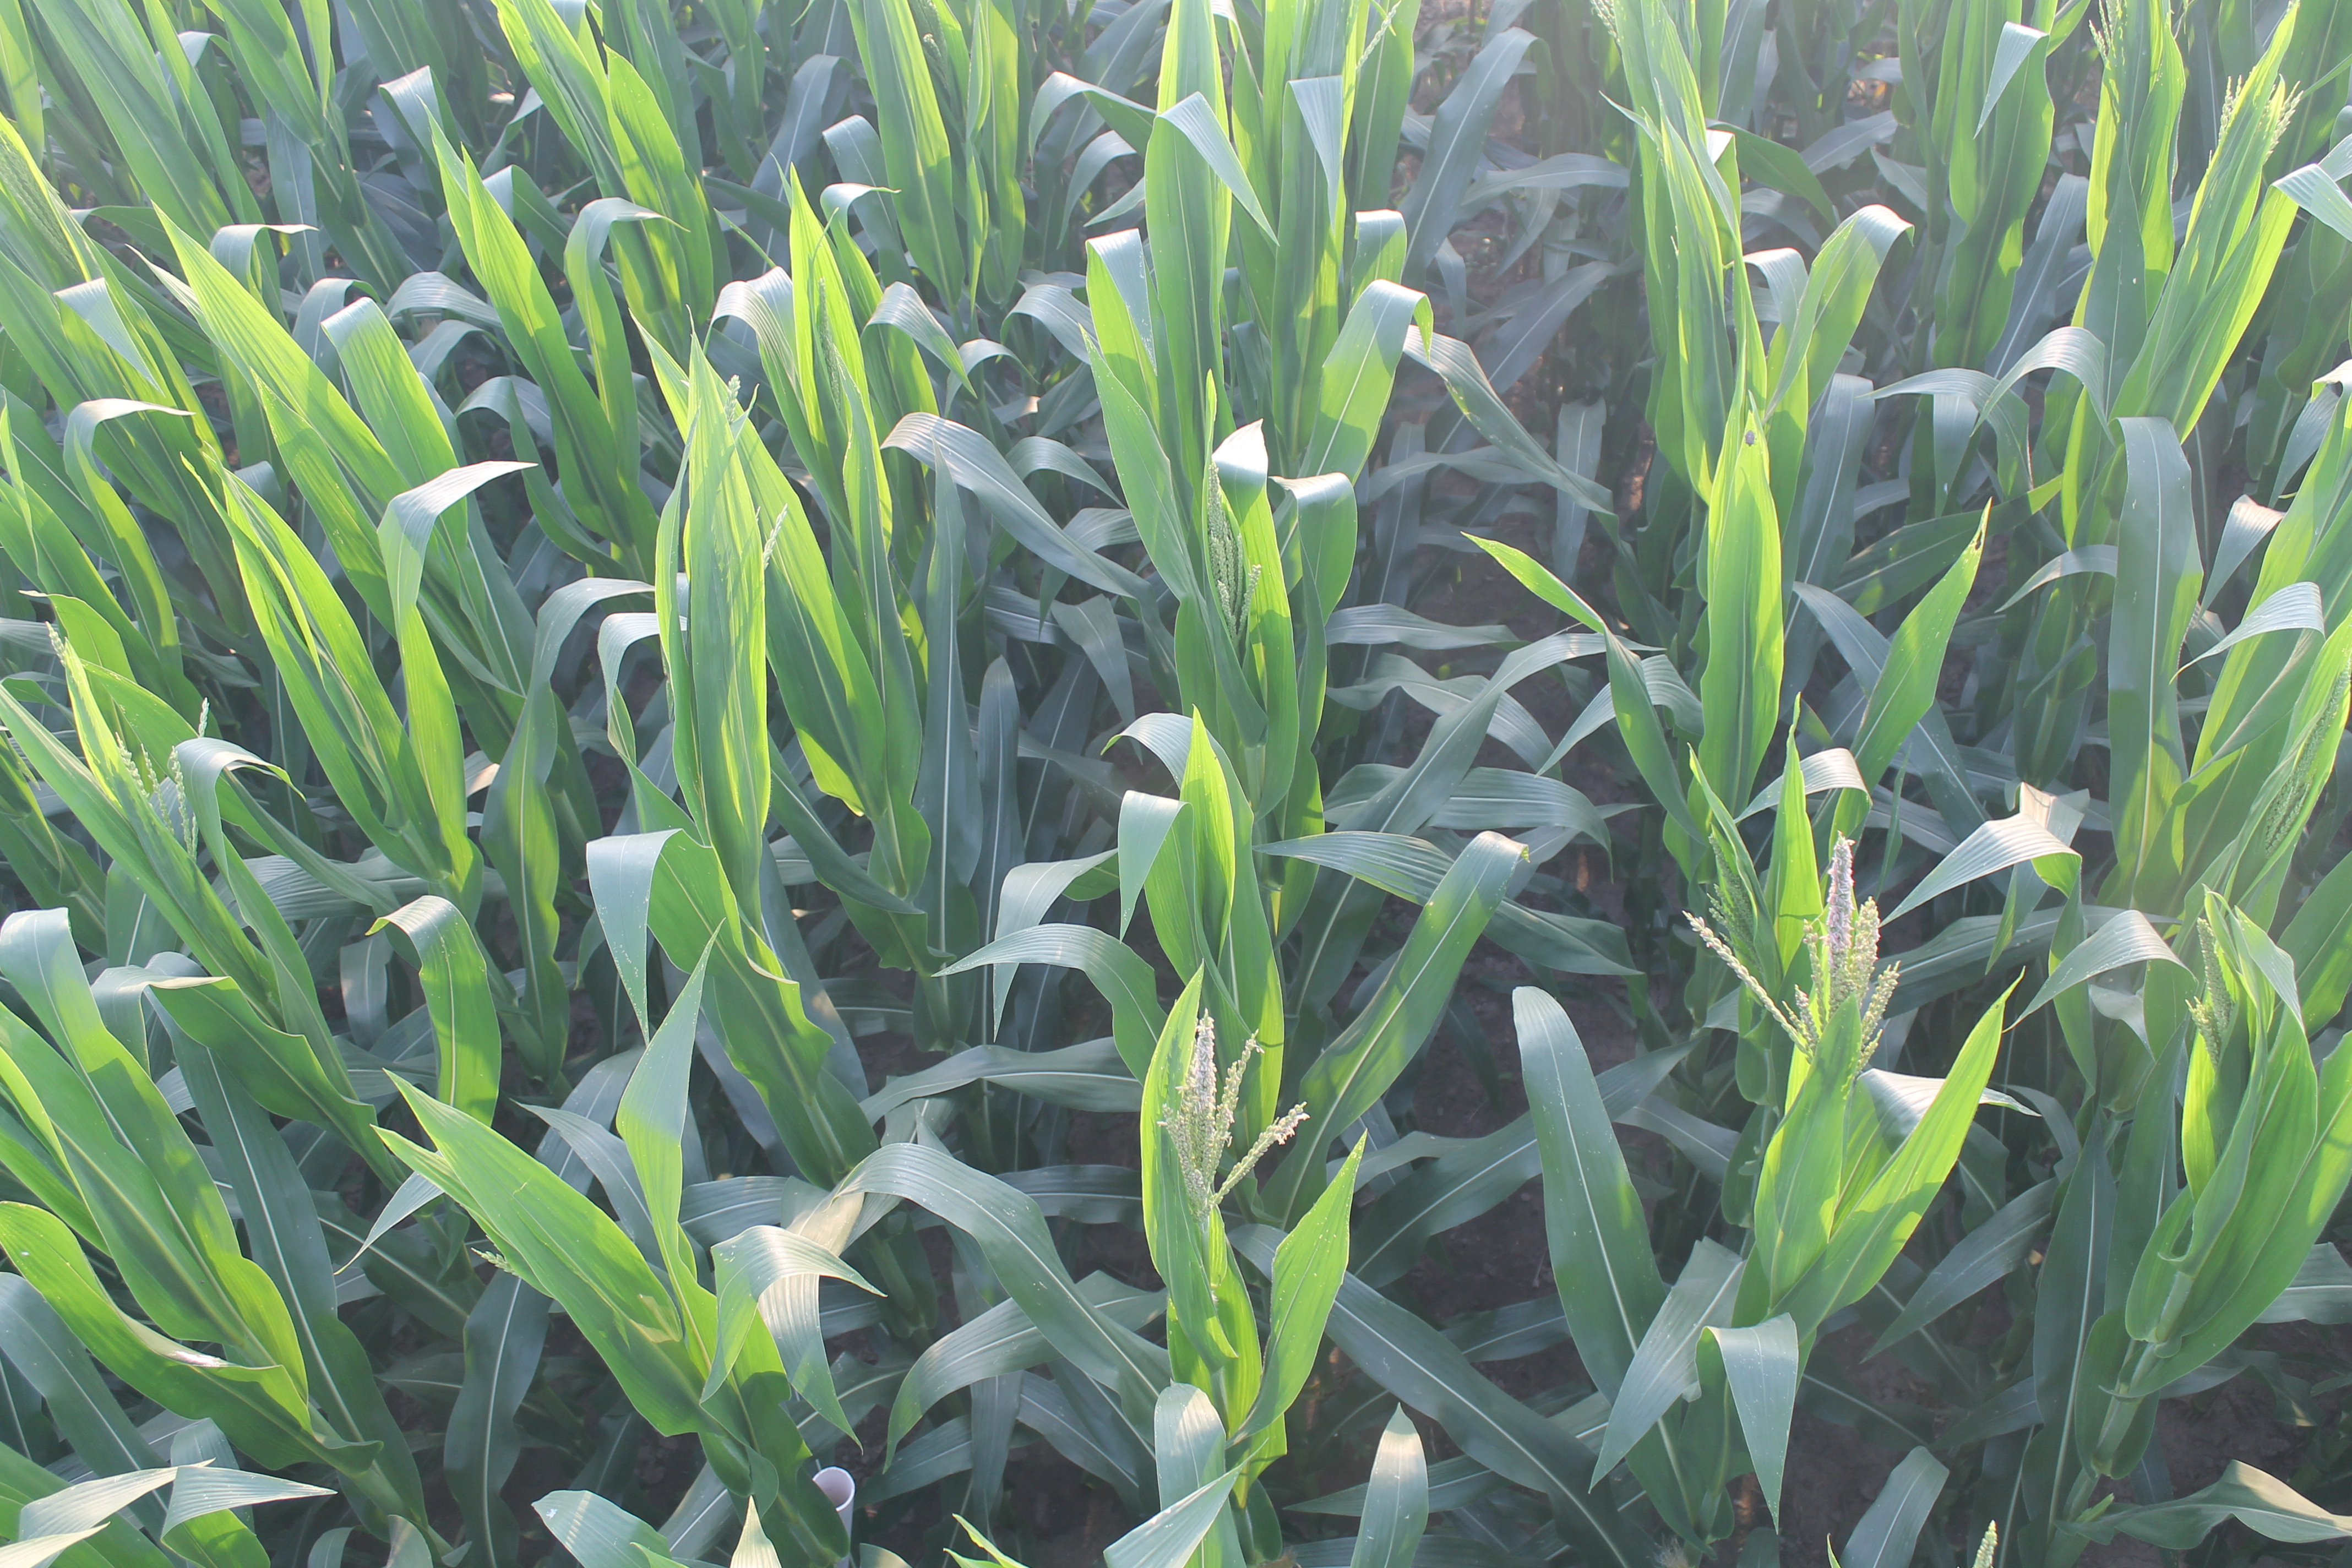Maize: (1780, 831, 1904, 1088), (1151, 1015, 1307, 1213)
